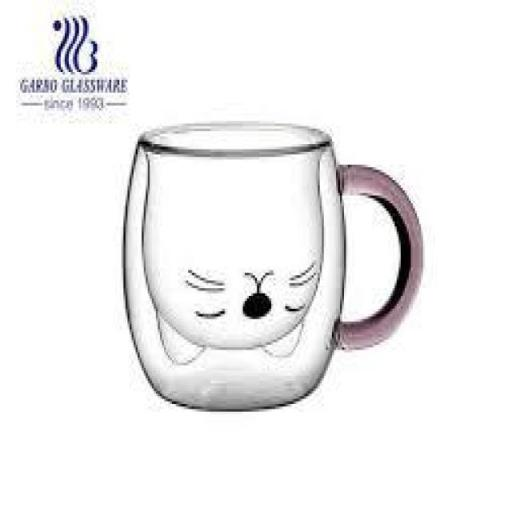glass: (115, 112, 431, 420)
